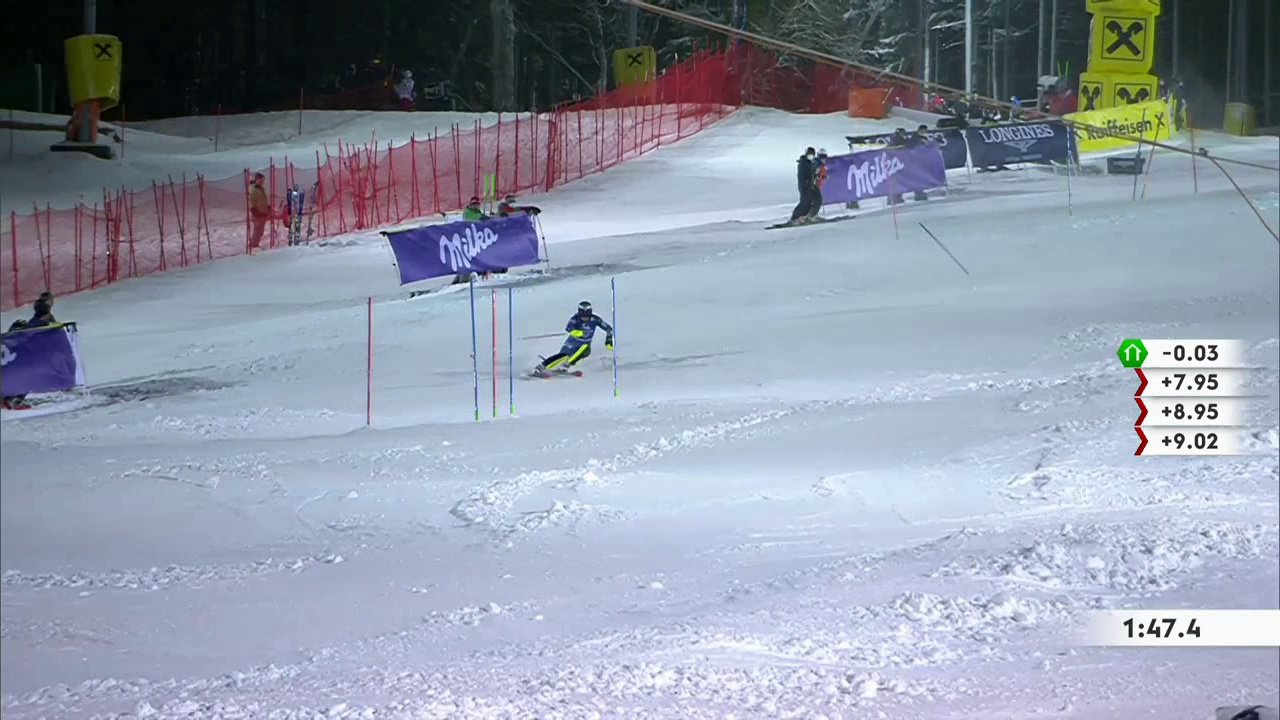longines: (974, 122, 1066, 165)
milka: (415, 217, 538, 278), (827, 151, 940, 204)
raiffeisen: (1072, 105, 1172, 151), (1097, 10, 1151, 66), (619, 44, 652, 77), (87, 38, 118, 68)
